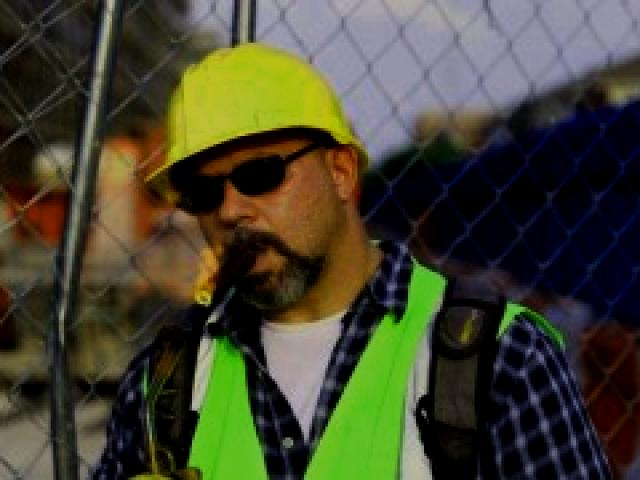Helmet: (134, 32, 373, 196)
